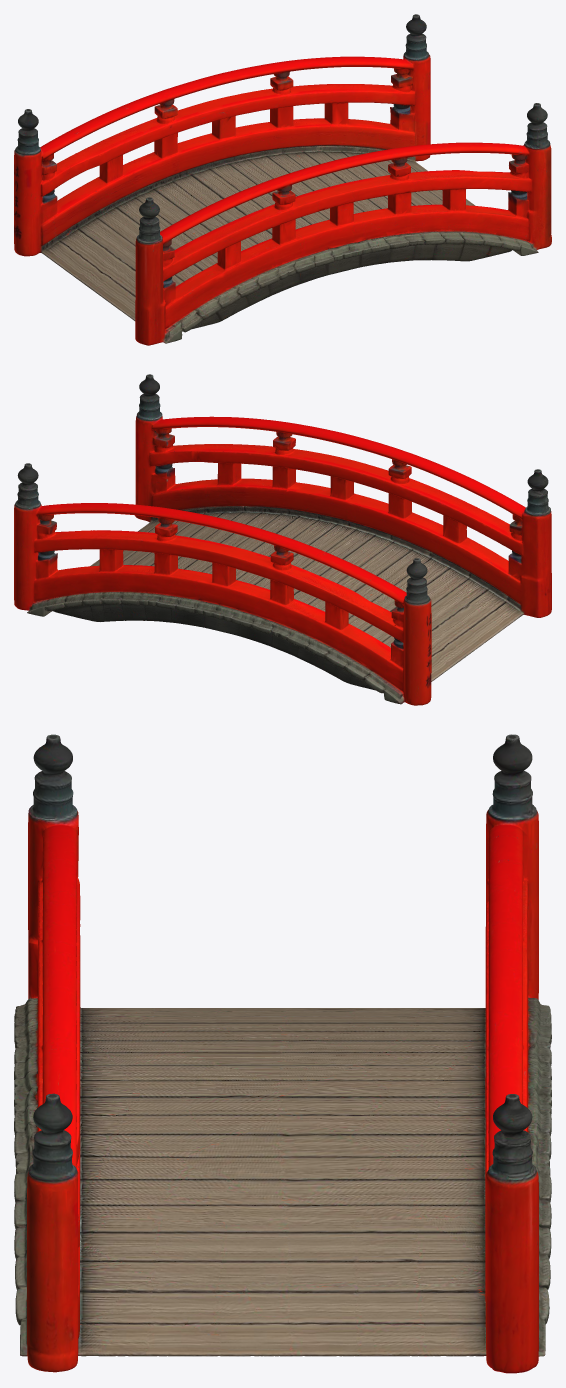
File: landmark_bridge.glb
3 renders of one model, top to bottom at view 1: azimuth 30°, elevation 25°; view 2: azimuth 150°, elevation 25°; view 3: azimuth 270°, elevation 25°, orthographic. The views are drawn at different scales.
Size of the model in its own units: 1.9 by 0.619 by 1.13.
Materials: 1 (1 with a texture image).
